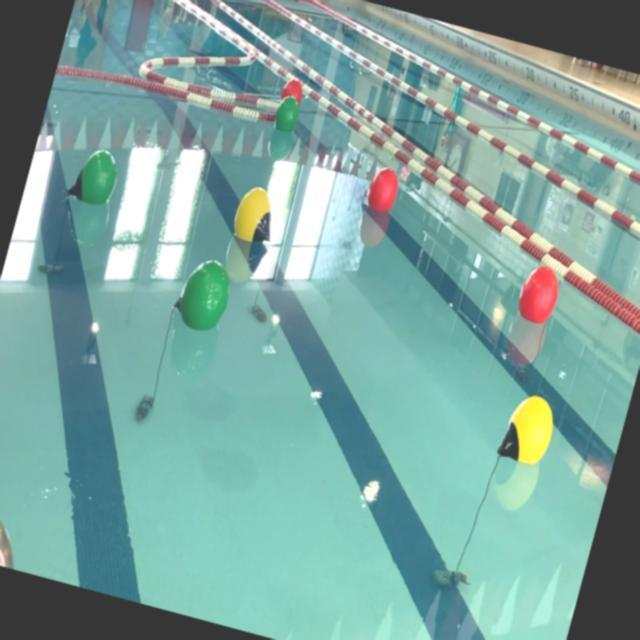buoy: (170, 250, 238, 336), (496, 390, 560, 472), (64, 141, 124, 211), (228, 180, 284, 248), (512, 262, 564, 330), (363, 164, 402, 216), (270, 90, 302, 137), (278, 74, 306, 108)
